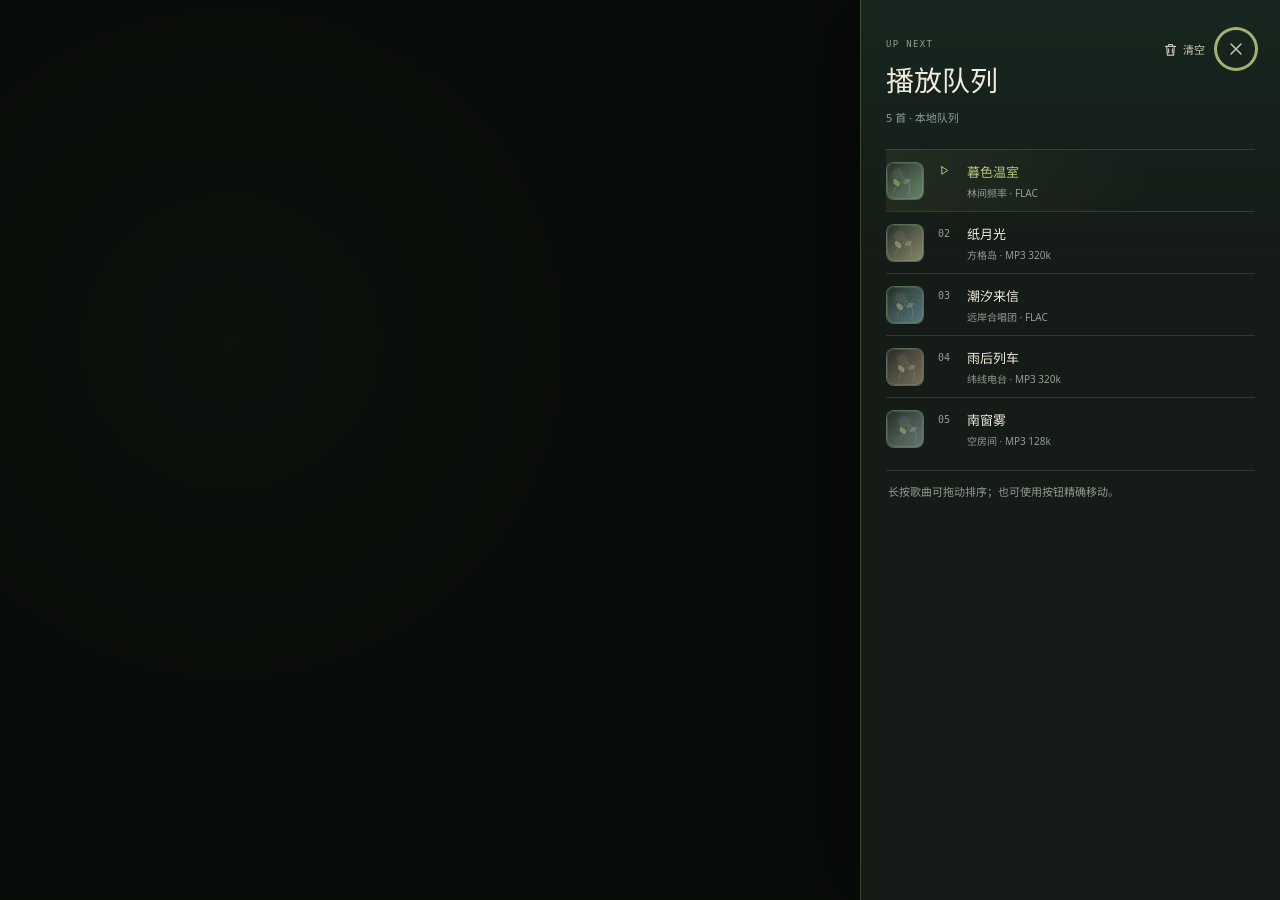
Test case: 播放队列抽屉 › 一键清空整个播放队列并显示空状态
Click the button with aria-label "清空播放队列".
click(1184, 49)  # box [1154,33,1214,65]
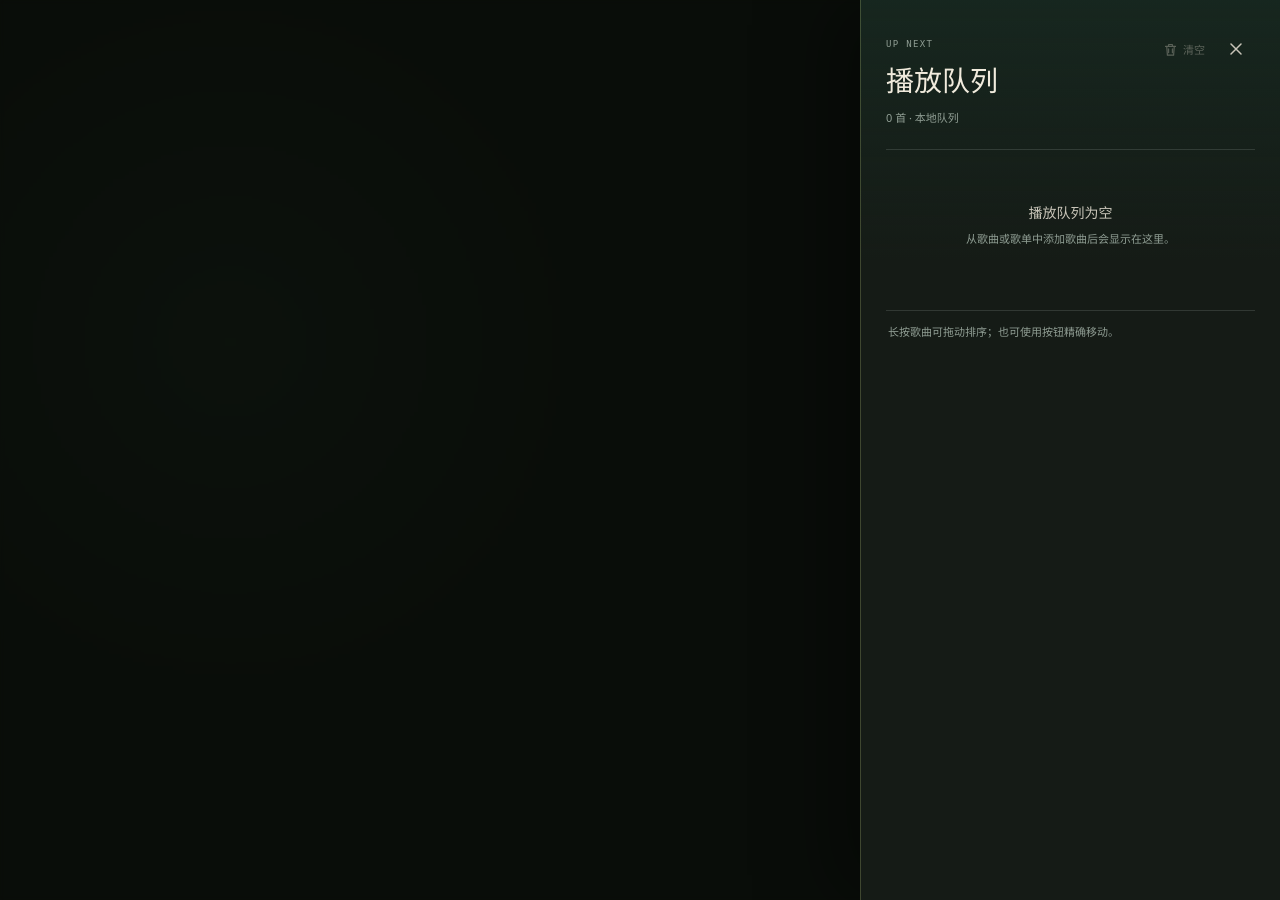
Now the text "0 首 · 本地队列" is shown, box [886,110,959,125]
Now the message shows "播放队列为空", box [1028,203,1112,222]
Now no list items are shown
